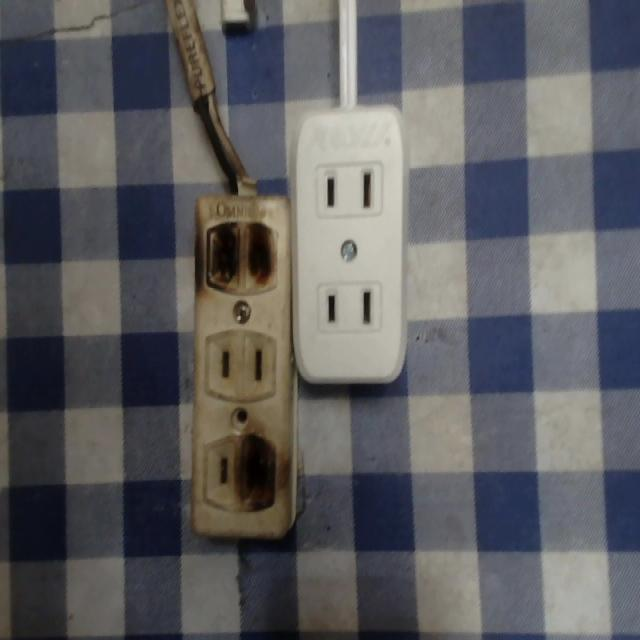-: (199, 214, 277, 294), (234, 429, 281, 508)
